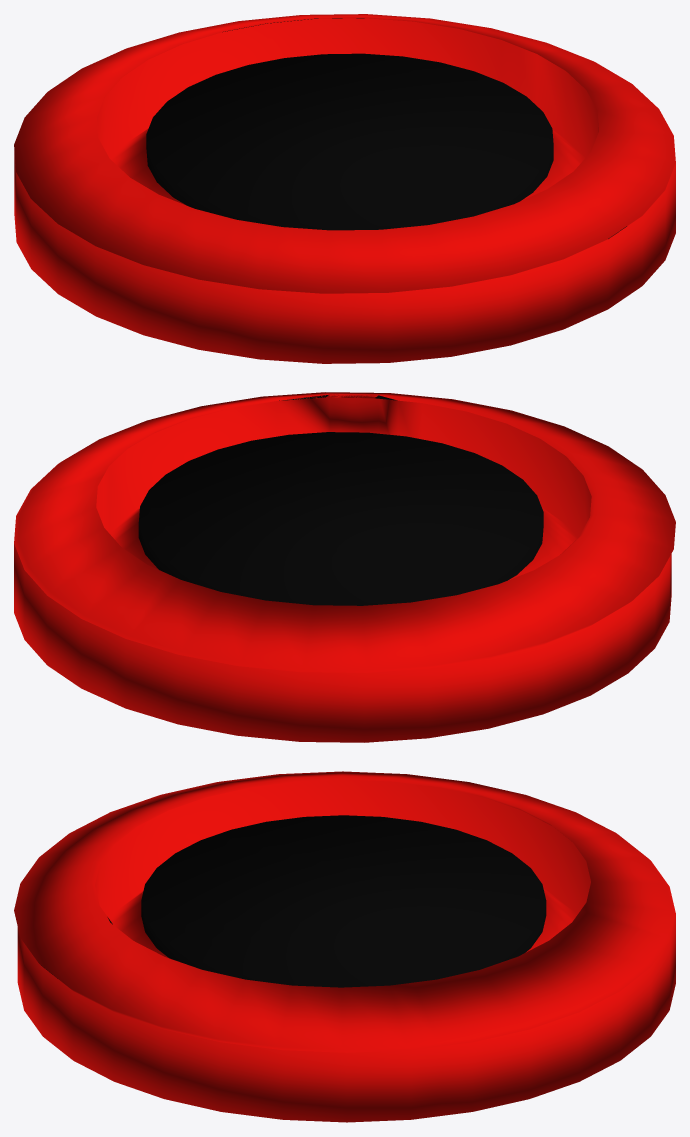
The model's file is rpressed.fbx.
3 renders of one model, top to bottom at view 1: azimuth 30°, elevation 25°; view 2: azimuth 150°, elevation 25°; view 3: azimuth 270°, elevation 25°, orthographic.
Parts seen in each view (by area): view 1: Cylinder.004; view 2: Cylinder.004; view 3: Cylinder.004.
Boxes of the visible parts, x1,y1,x2,y2 form: Cylinder.004: (14, 14, 675, 363); Cylinder.004: (14, 392, 675, 742); Cylinder.004: (14, 771, 675, 1122).
Size of the model in its own units: 201 by 33.98 by 201.
